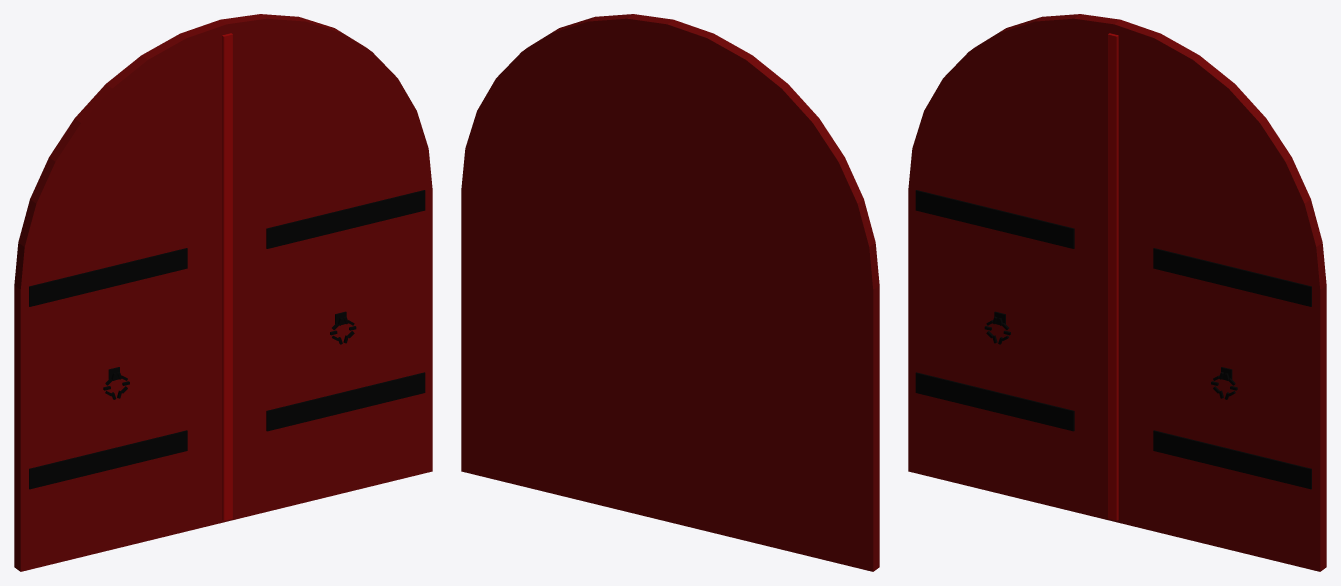
The model's file is SilverbrookGildedTankard_Door1.fbx.
The picture shows the model from 3 angles, left to right: view 1: azimuth 30°, elevation 25°; view 2: azimuth 150°, elevation 25°; view 3: azimuth 330°, elevation 25°; orthographic projection.
Visible parts, largest first — view 1: SM_SBGildedTankard_Details_Door1_Part; view 2: SM_SBGildedTankard_Details_Door1_Part; view 3: SM_SBGildedTankard_Details_Door1_Part.
Part boxes in pixels (x1=…): SM_SBGildedTankard_Details_Door1_Part: x1=14, y1=14, x2=432, y2=571; SM_SBGildedTankard_Details_Door1_Part: x1=461, y1=14, x2=879, y2=571; SM_SBGildedTankard_Details_Door1_Part: x1=908, y1=14, x2=1326, y2=571.
Size of the model in its own units: 260 by 300 by 11.2.
